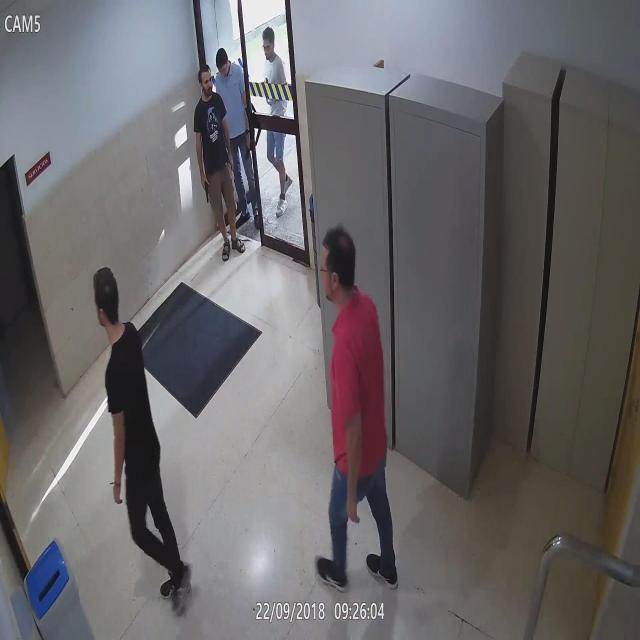gun: (86, 259, 197, 616), (310, 221, 402, 620), (191, 58, 248, 264), (208, 42, 263, 234), (256, 22, 296, 221), (252, 109, 273, 149), (200, 172, 216, 217), (240, 126, 252, 171)
